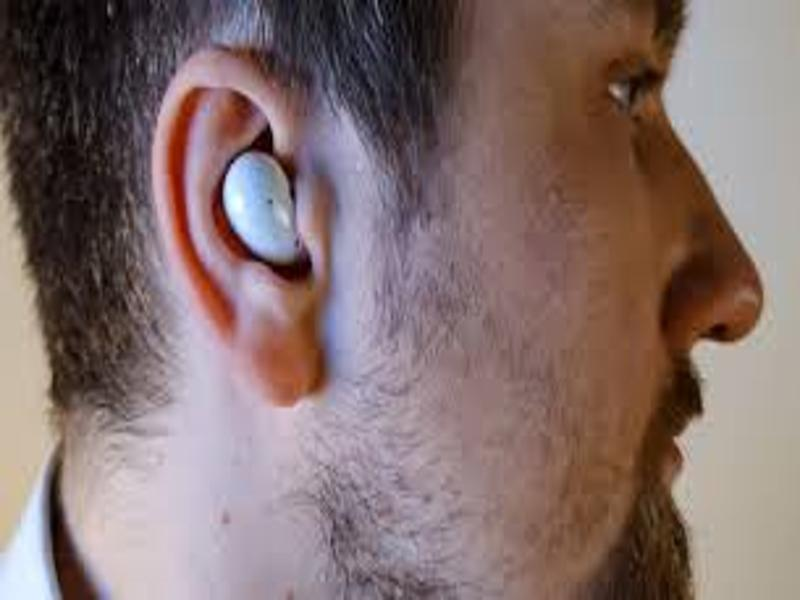headphone: (220, 149, 310, 265)
